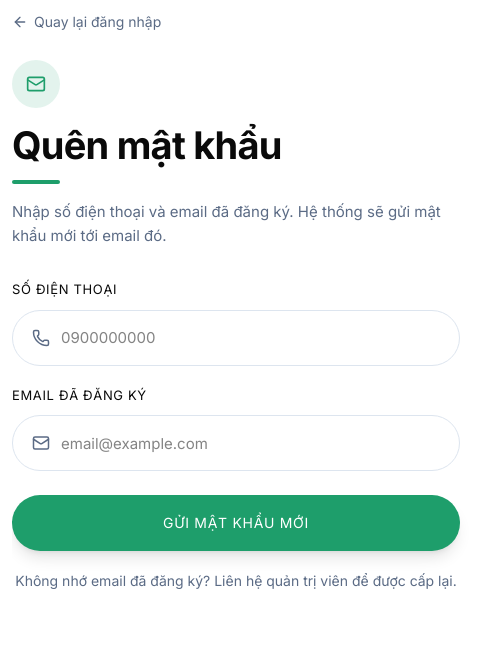
Scenario: ForgotPasswordForm › số điện thoại sai định dạng — chặn submit, KHÔNG hé lộ số đó có tồn tại hay không (AF-01)
In the field with placeholder "0900000000": (236, 338) x1=12 y1=310 x2=460 y2=366, type "12345"
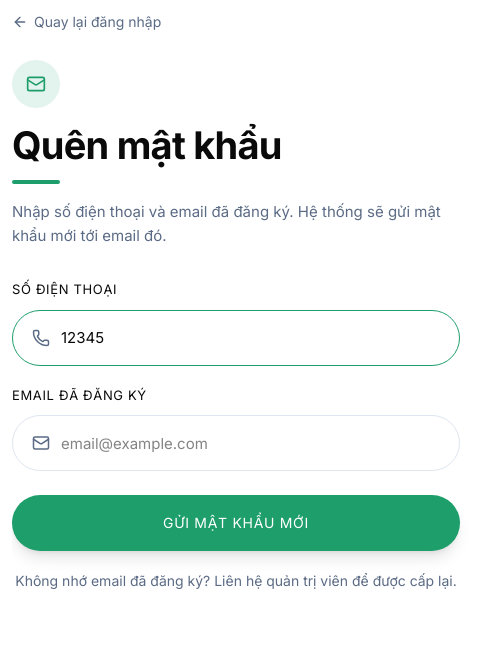
In the field with placeholder "email@example.com": (236, 443) x1=12 y1=415 x2=460 y2=471, type "a@b.com"
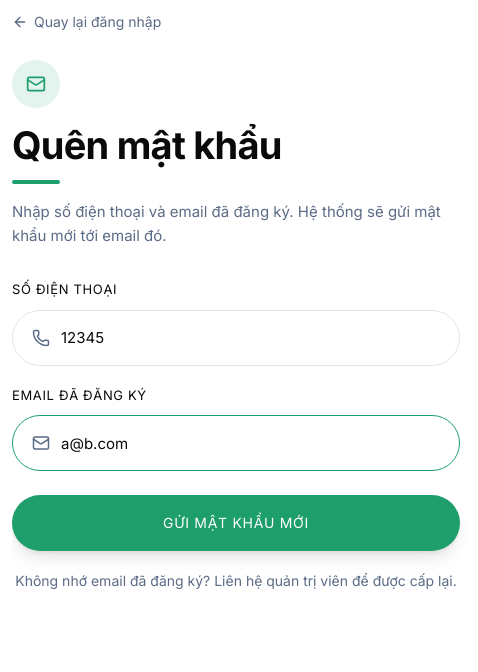
Click the button "Gửi mật khẩu mới": (236, 523) x1=12 y1=495 x2=460 y2=551
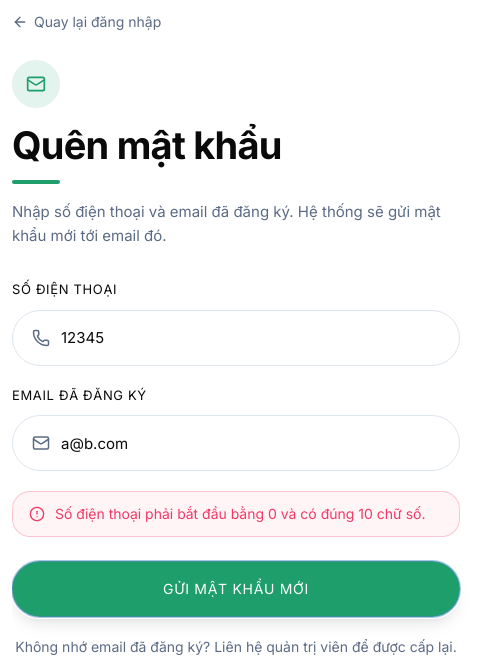
Expected: the text "Số điện thoại phải bắt đầu bằng 0 và có đúng 10 chữ số." is shown, x1=55 y1=504 x2=426 y2=524
